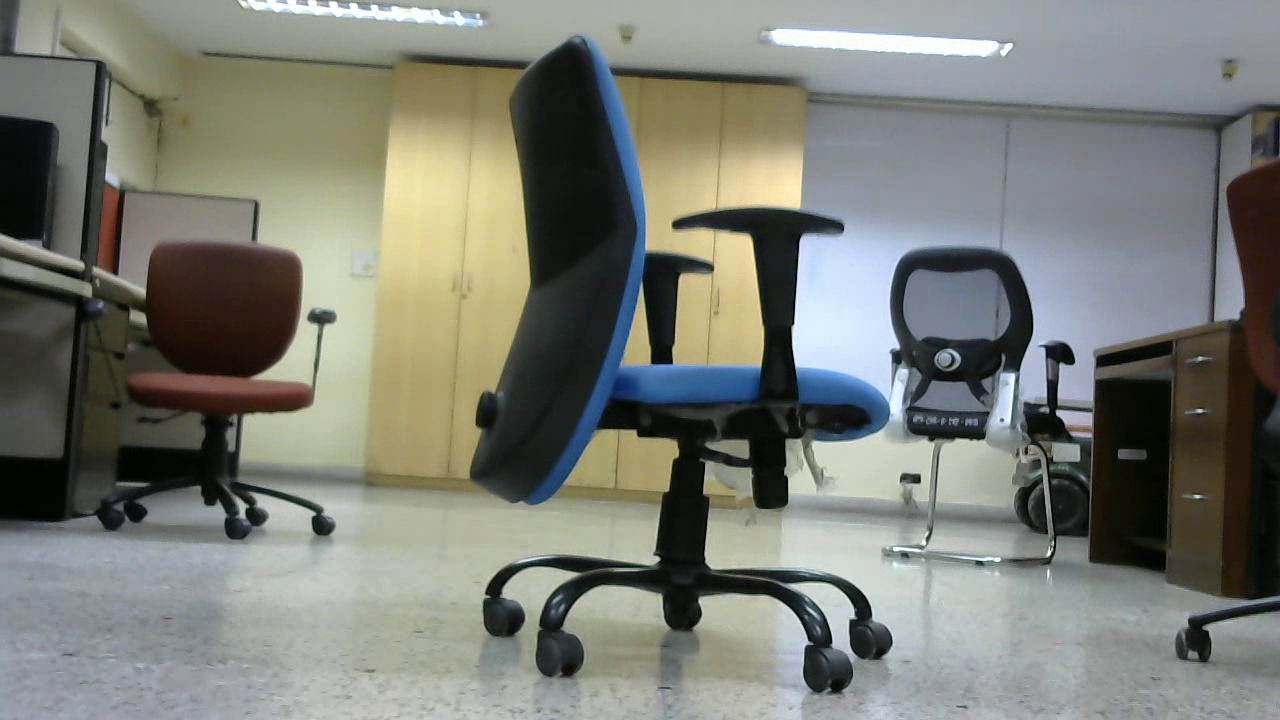chair: (470, 25, 902, 688), (113, 237, 336, 540), (871, 247, 1055, 565)
